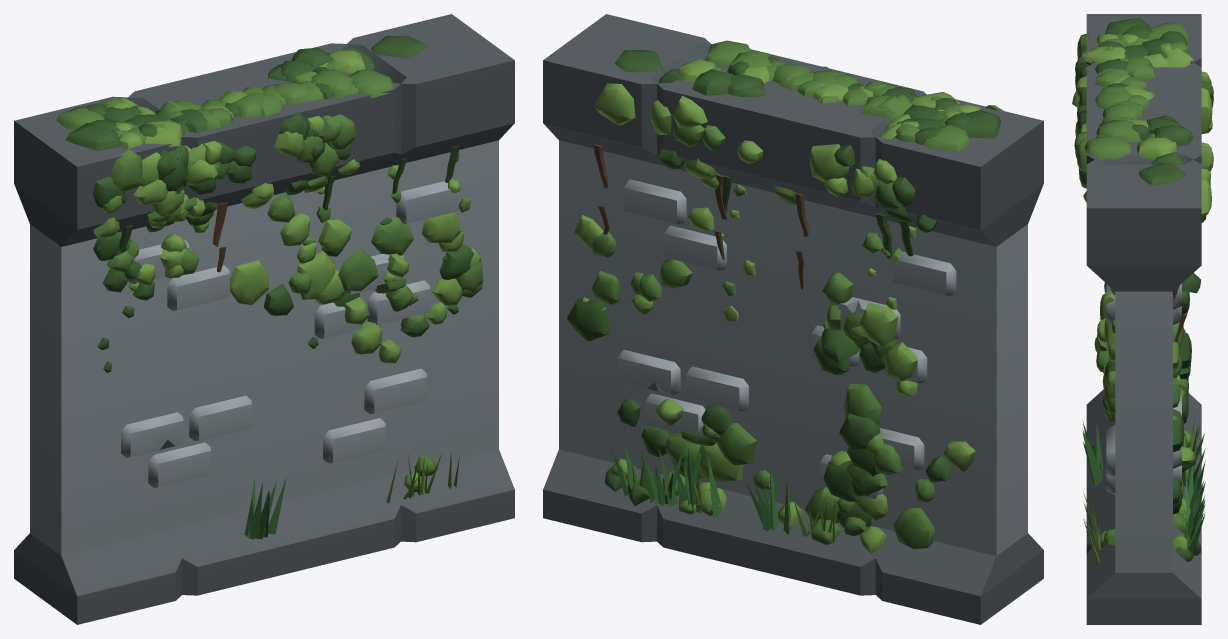
Rendered from wall_overgrown_D.glb.
3 views of the same model, side by side, from view 1: azimuth 30°, elevation 25°; view 2: azimuth 150°, elevation 25°; view 3: azimuth 270°, elevation 25° (orthographic). The views are drawn at different scales.
Visible parts, largest first — view 1: Item; view 2: Item; view 3: Item.
Part boxes in pixels (x1=…): Item: x1=14, y1=14, x2=514, y2=624; Item: x1=543, y1=14, x2=1043, y2=624; Item: x1=1072, y1=14, x2=1213, y2=624.
Bounding box in the file's own units: 4 × 4.11 × 1.23.
Materials: 3 (3 with a texture image).
